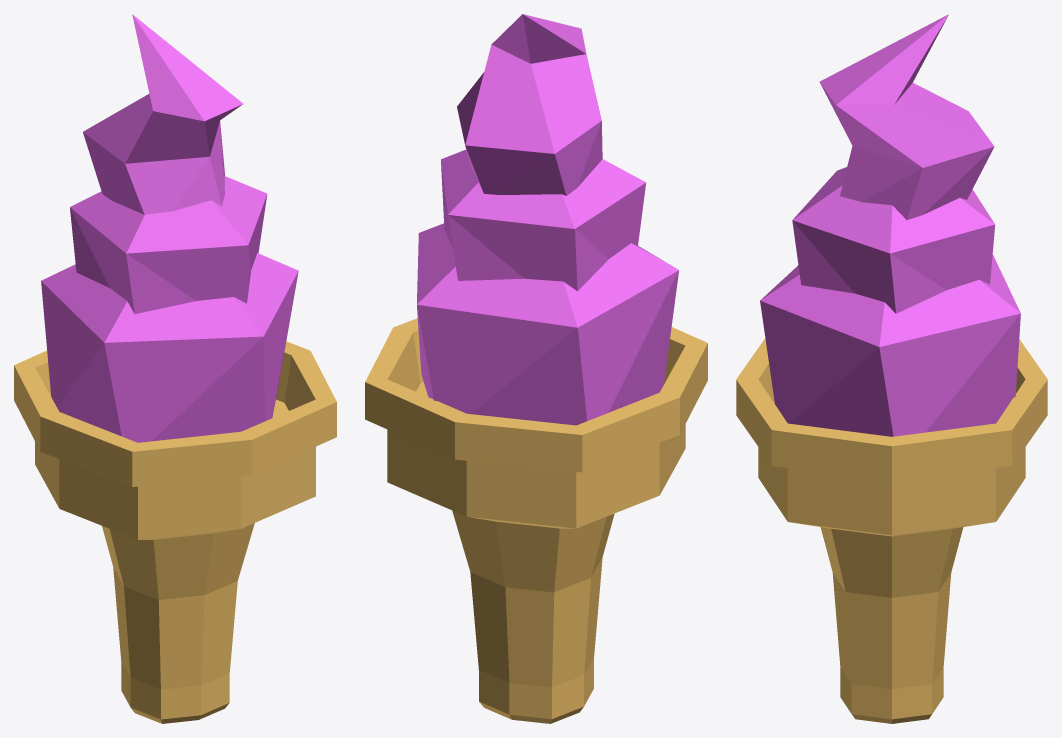
File: Strawberry Icecream Cone.fbx
3 views of the same model, side by side, from view 1: azimuth 30°, elevation 25°; view 2: azimuth 150°, elevation 25°; view 3: azimuth 270°, elevation 25° (orthographic). The views are drawn at different scales.
Visible parts, largest first — view 1: Strawberry Icecream Cone; view 2: Strawberry Icecream Cone; view 3: Strawberry Icecream Cone.
Part boxes in pixels (x1,y1,x2,y2): Strawberry Icecream Cone: (14, 14, 336, 723); Strawberry Icecream Cone: (365, 14, 707, 723); Strawberry Icecream Cone: (736, 14, 1047, 723).
Size of the model in its own units: 5.67 by 13.5 by 5.59.
